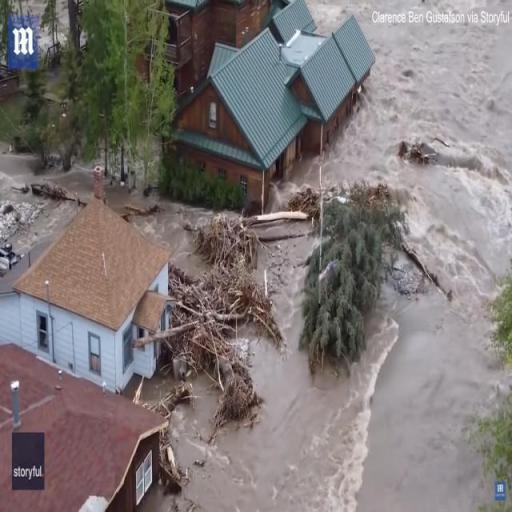flood: (0, 154, 91, 293), (105, 183, 216, 276)
house: (0, 329, 166, 512), (30, 199, 178, 384), (181, 32, 297, 210)
